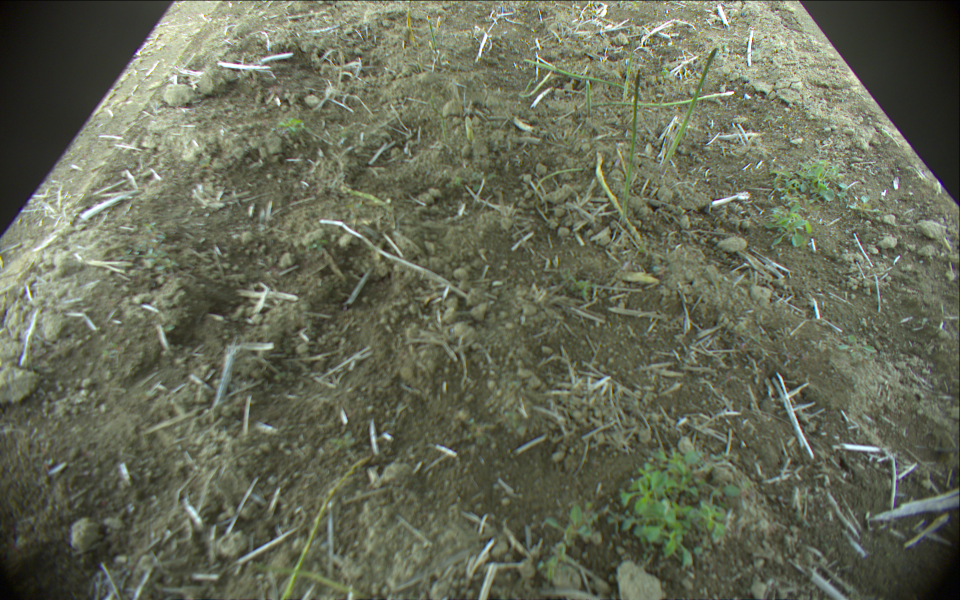aspa: (277, 456, 374, 600), (661, 45, 719, 171), (525, 57, 634, 95), (252, 565, 366, 600), (594, 150, 635, 228), (600, 92, 730, 105), (621, 43, 637, 100), (528, 71, 554, 97), (426, 18, 439, 54), (465, 114, 475, 148), (584, 81, 592, 117)
